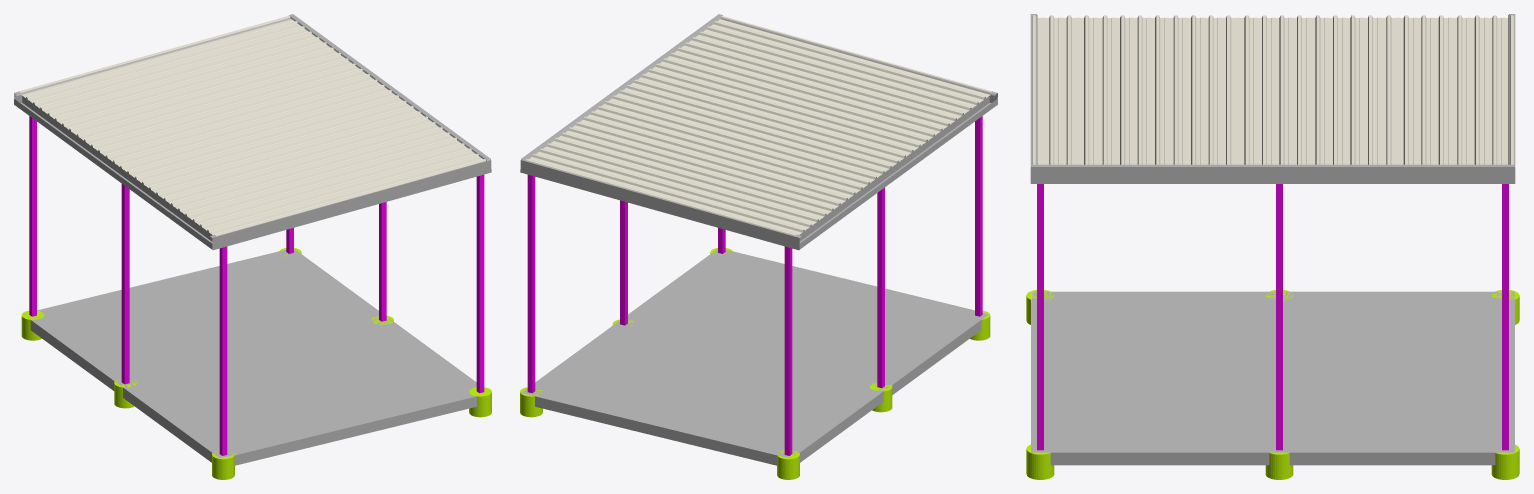
The model's file is darcy_model.glb.
3 views of the same model, side by side, from view 1: azimuth 30°, elevation 25°; view 2: azimuth 150°, elevation 25°; view 3: azimuth 270°, elevation 25° (orthographic). The views are drawn at different scales.
Visible parts, largest first — view 1: MONOCLAD ROOF (×7), 176, Gutter Fascia (×2), Gutter-left, PST-1-R, PST-1-L, PST-2-L, PST-3-L, Barge Flashing-right, PST-2-R, BF-1-L, BF-1-R; view 2: MONOCLAD ROOF (×7), 176, Gutter Fascia (×2), Gutter-left, PST-3-R, PST-3-L, PST-1-L, PST-2-L, Barge Flashing-right, PST-2-R, BF-3-L; view 3: 176, MONOCLAD ROOF (×7), Barge Flashing-right, PST-2-R, PST-3-R, PST-1-R, Gutter Fascia (×2), BF-1-R, BF-3-R, BF-2-R.
Part boxes in pixels (bbox=[...]): MONOCLAD ROOF (×7): bbox=[19, 15, 490, 236]; 176: bbox=[23, 249, 476, 465]; Gutter Fascia (×2): bbox=[14, 18, 491, 250]; Gutter-left: bbox=[14, 96, 212, 249]; PST-1-R: bbox=[476, 174, 484, 393]; PST-1-L: bbox=[219, 246, 227, 455]; PST-2-L: bbox=[121, 184, 129, 384]; PST-3-L: bbox=[29, 116, 36, 316]; Barge Flashing-right: bbox=[289, 14, 490, 160]; PST-2-R: bbox=[379, 202, 386, 321]; BF-1-L: bbox=[212, 451, 234, 479]; BF-1-R: bbox=[469, 387, 491, 417]; MONOCLAD ROOF (×7): bbox=[521, 16, 992, 236]; 176: bbox=[521, 249, 988, 465]; Gutter Fascia (×2): bbox=[520, 18, 997, 250]; Gutter-left: bbox=[799, 96, 997, 249]; PST-3-R: bbox=[527, 174, 535, 393]; PST-3-L: bbox=[784, 246, 792, 455]; PST-1-L: bbox=[975, 116, 982, 316]; PST-2-L: bbox=[877, 187, 884, 388]; Barge Flashing-right: bbox=[521, 14, 723, 160]; PST-2-R: bbox=[620, 200, 627, 325]; BF-3-L: bbox=[777, 450, 799, 479]; 176: bbox=[1031, 291, 1514, 465]; MONOCLAD ROOF (×7): bbox=[1032, 15, 1514, 164]; Barge Flashing-right: bbox=[1031, 164, 1514, 183]; PST-2-R: bbox=[1276, 184, 1282, 450]; PST-3-R: bbox=[1502, 184, 1508, 450]; PST-1-R: bbox=[1037, 184, 1043, 450]; Gutter Fascia (×2): bbox=[1030, 14, 1515, 183]; BF-1-R: bbox=[1026, 444, 1054, 479]; BF-3-R: bbox=[1491, 444, 1519, 479]; BF-2-R: bbox=[1265, 452, 1293, 479].
Size of the model in its own units: 4.28 by 3.69 by 5.3.
